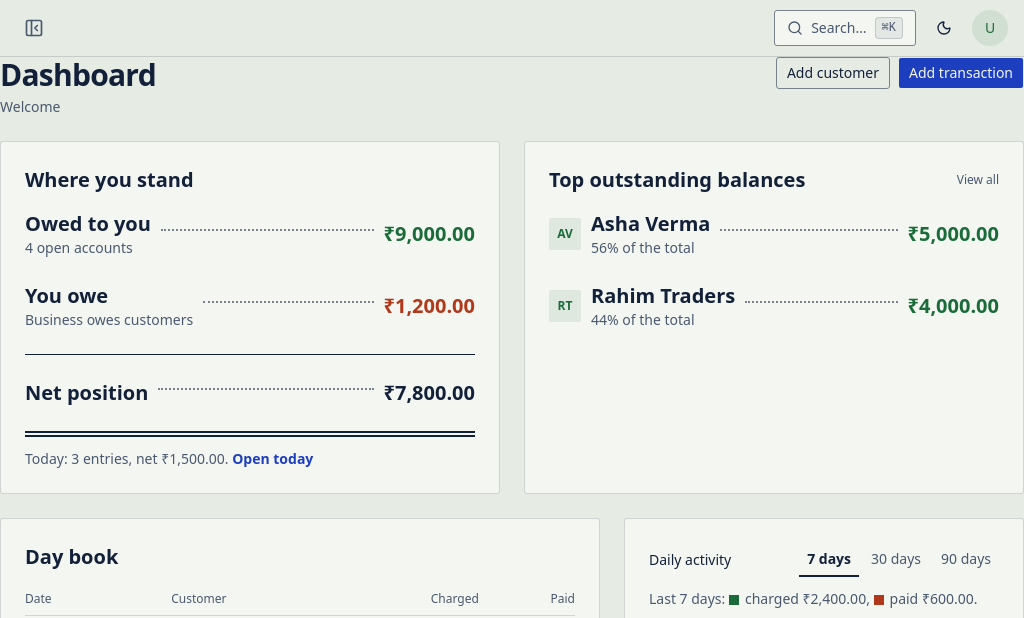
Test: L-06 dashboard as a ledger page › Today still opens Transactions filtered to today with identical count and net
Check: the text "Today: 3 entries, net ₹1,500.00 . Open today" is shown, box 25,449 -> 313,468
Check: the text "₹1,500.00" next to ", net" is shown, box 161,449 -> 225,468
Click the link "Open today" at (273, 458), box 232,449 -> 313,468
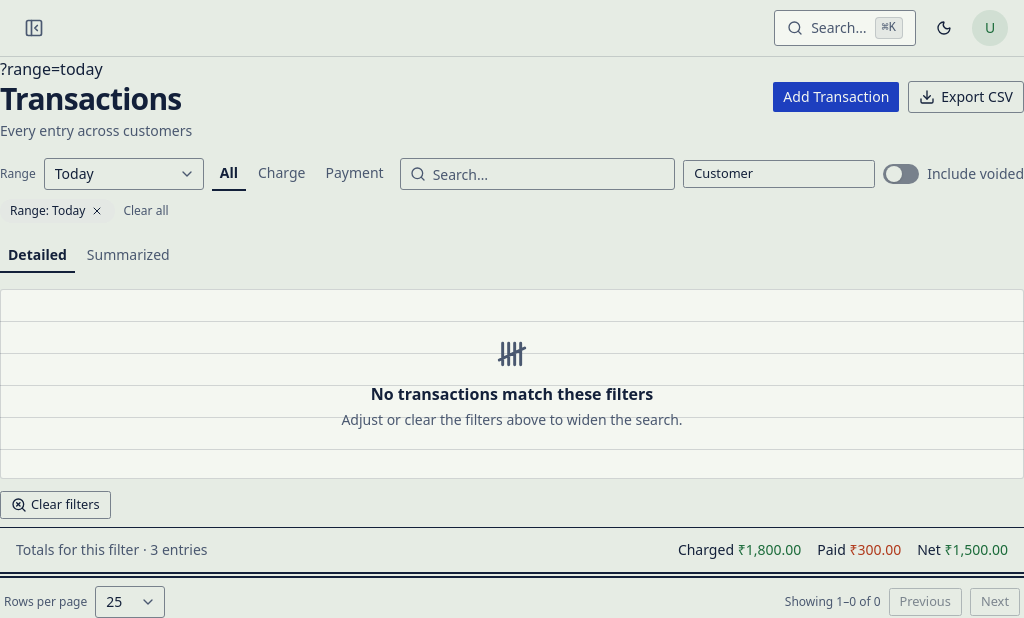
Check: the text "Range: Today" is shown, box 0,199 -> 115,223
Check: the text with test id "url" shows "range=today", box 0,58 -> 102,80
Check: the text "Totals for this filter · 3 entries" is shown, box 16,540 -> 208,560
